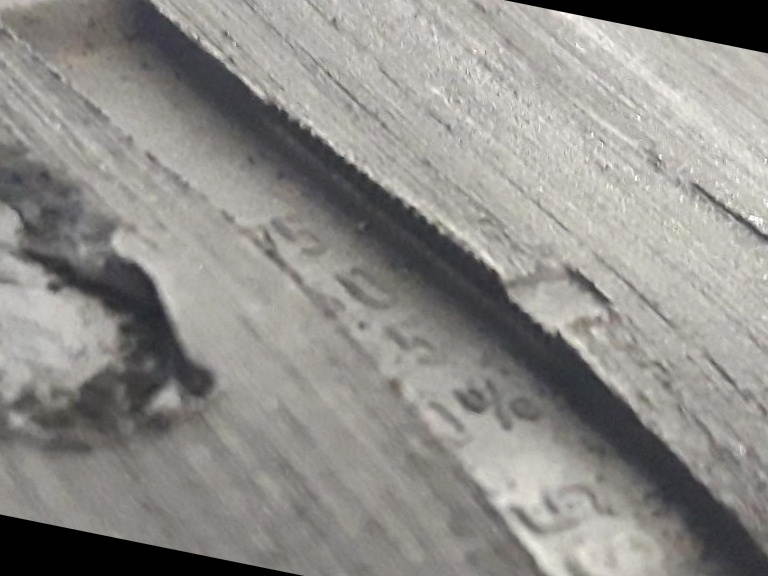temoin:0: (452, 214, 635, 383)
